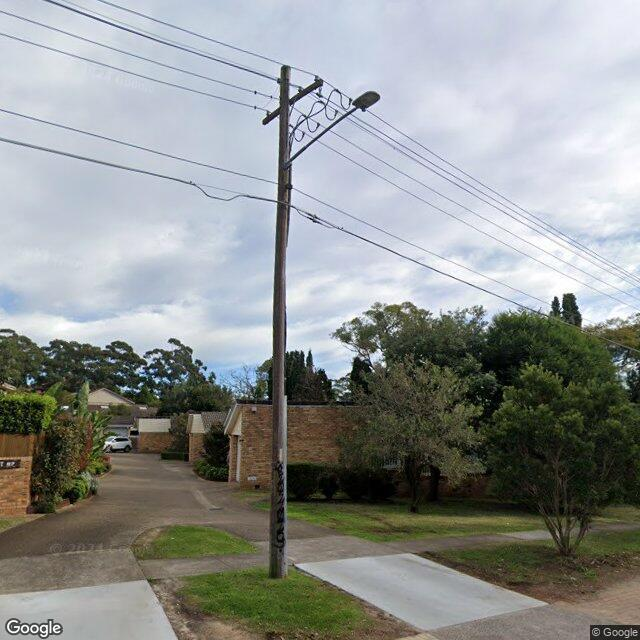crossarm: (261, 78, 324, 125)
streetlight: (286, 91, 381, 167)
timber-pole: (268, 64, 293, 580)
